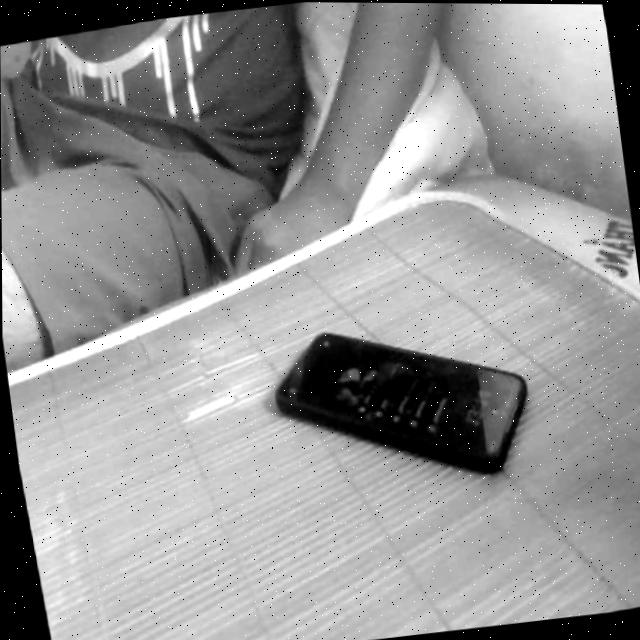phone: (245, 279, 561, 530)
